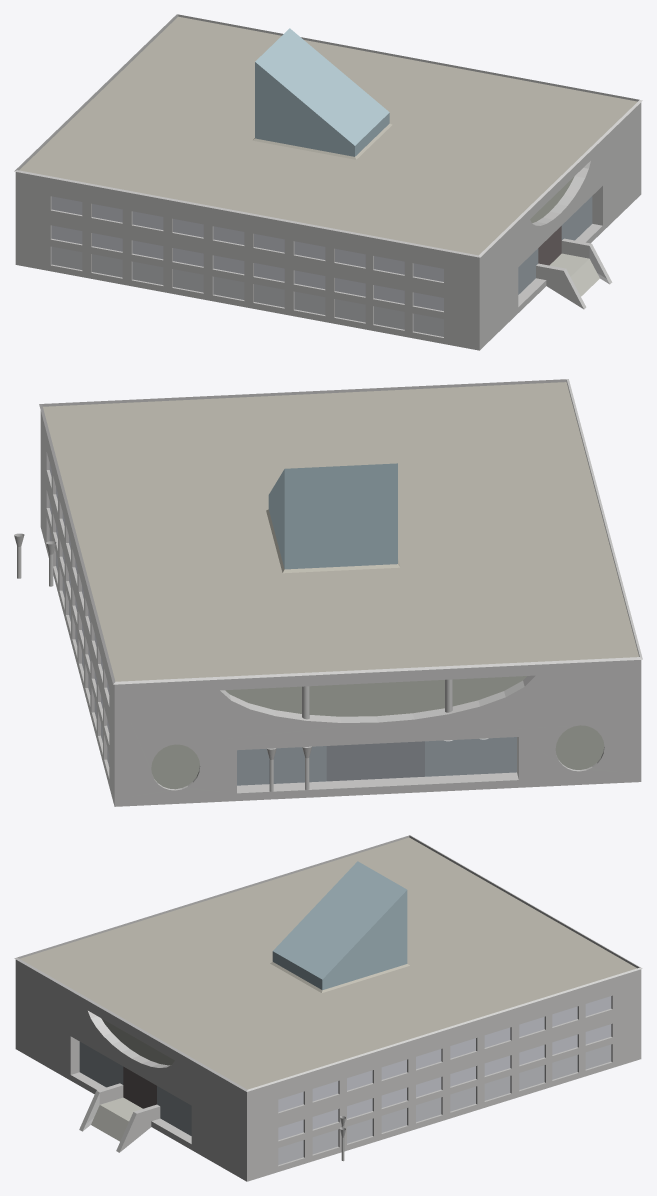
File: upna.glb
3 views of the same model, one above another, from view 1: azimuth 30°, elevation 25°; view 2: azimuth 150°, elevation 25°; view 3: azimuth 270°, elevation 25° (orthographic). The views are drawn at different scales.
Parts seen in each view (by area): view 1: Node641, Node494, Node511, Node117, Node115, Node105, Node101, Node502, Node593, Node102, Node592, Node705 (+11 smaller); view 2: Node641, Node97, Node114, Node392, Node701, Node700, Node589, Node595, Node590, Node389, Node108, Node104 (+5 smaller); view 3: Node641, Node701, Node511, Node117, Node113, Node381, Node107, Node103, Node593, Node592, Node118, Node102 (+5 smaller).
Boxes of the visible parts, left/top/right/bottom form: Node641: left=19, top=16, right=637, bottom=255; Node494: left=15, top=172, right=479, bottom=350; Node511: left=479, top=102, right=641, bottom=350; Node117: left=255, top=28, right=389, bottom=145; Node115: left=255, top=62, right=354, bottom=156; Node105: left=178, top=14, right=639, bottom=101; Node101: left=14, top=170, right=479, bottom=257; Node502: left=536, top=266, right=583, bottom=309; Node593: left=561, top=196, right=592, bottom=240; Node102: left=479, top=100, right=642, bottom=257; Node592: left=538, top=226, right=561, bottom=265; Node705: left=570, top=259, right=599, bottom=296; Node641: left=43, top=382, right=638, bottom=681; Node97: left=114, top=660, right=641, bottom=798; Node114: left=284, top=463, right=397, bottom=569; Node392: left=225, top=676, right=526, bottom=716; Node701: left=40, top=411, right=114, bottom=806; Node700: left=114, top=774, right=641, bottom=806; Node589: left=326, top=741, right=424, bottom=781; Node595: left=425, top=737, right=516, bottom=776; Node590: left=237, top=746, right=326, bottom=785; Node389: left=237, top=772, right=518, bottom=793; Node108: left=42, top=379, right=566, bottom=406; Node104: left=113, top=657, right=642, bottom=684; Node641: left=20, top=837, right=636, bottom=1089; Node701: left=247, top=969, right=641, bottom=1181; Node511: left=15, top=960, right=246, bottom=1181; Node117: left=273, top=861, right=406, bottom=979; Node113: left=322, top=890, right=407, bottom=990; Node381: left=79, top=1042, right=123, bottom=1087; Node107: left=17, top=835, right=409, bottom=958; Node103: left=247, top=967, right=642, bottom=1091; Node593: left=157, top=1086, right=191, bottom=1135; Node592: left=123, top=1066, right=156, bottom=1108; Node118: left=101, top=1018, right=174, bottom=1065; Node102: left=14, top=957, right=247, bottom=1091.
Size of the model in its own units: 2048 by 674 by 2119.
